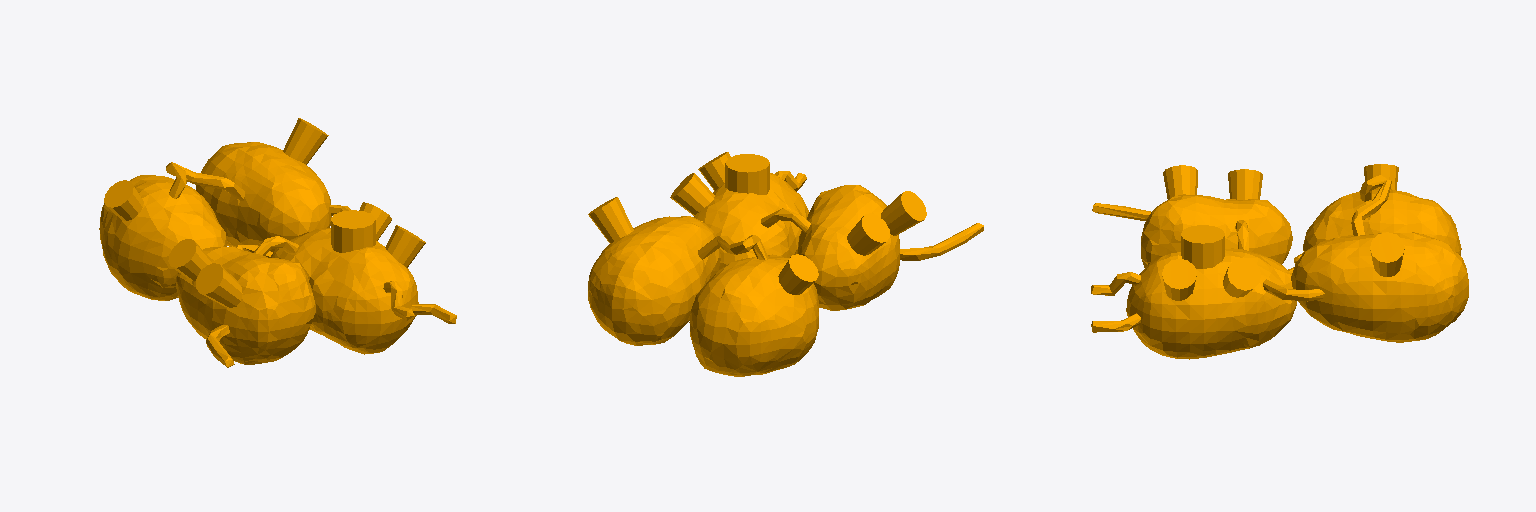
The model's file is GoldPotatoEngine.obj.
3 views of the same model, side by side, from view 1: azimuth 30°, elevation 25°; view 2: azimuth 150°, elevation 25°; view 3: azimuth 270°, elevation 25° (orthographic).
Parts seen in each view (by area): view 1: Handle1; view 2: Handle1; view 3: Handle1.
Boxes of the visible parts, x1=… form: Handle1: x1=99, y1=118, x2=456, y2=367; Handle1: x1=588, y1=152, x2=983, y2=376; Handle1: x1=1091, y1=164, x2=1468, y2=359.
Bounding box in the file's own units: 1.47 × 0.8184 × 1.95.